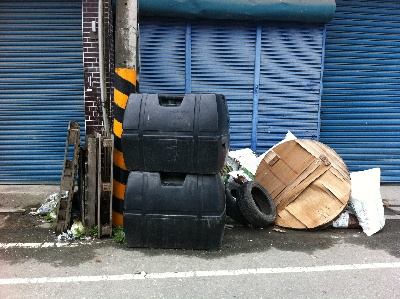box: (121, 90, 230, 175), (123, 171, 227, 253)
plastic_bag: (351, 167, 386, 237)
tire: (238, 178, 279, 227)
